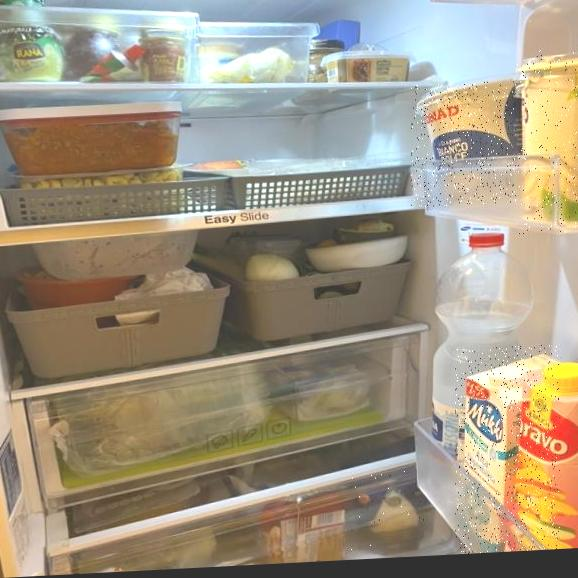cheese: (351, 469, 424, 557)
milk: (455, 344, 560, 554)
yoghurt: (411, 80, 528, 208), (516, 47, 578, 235)
